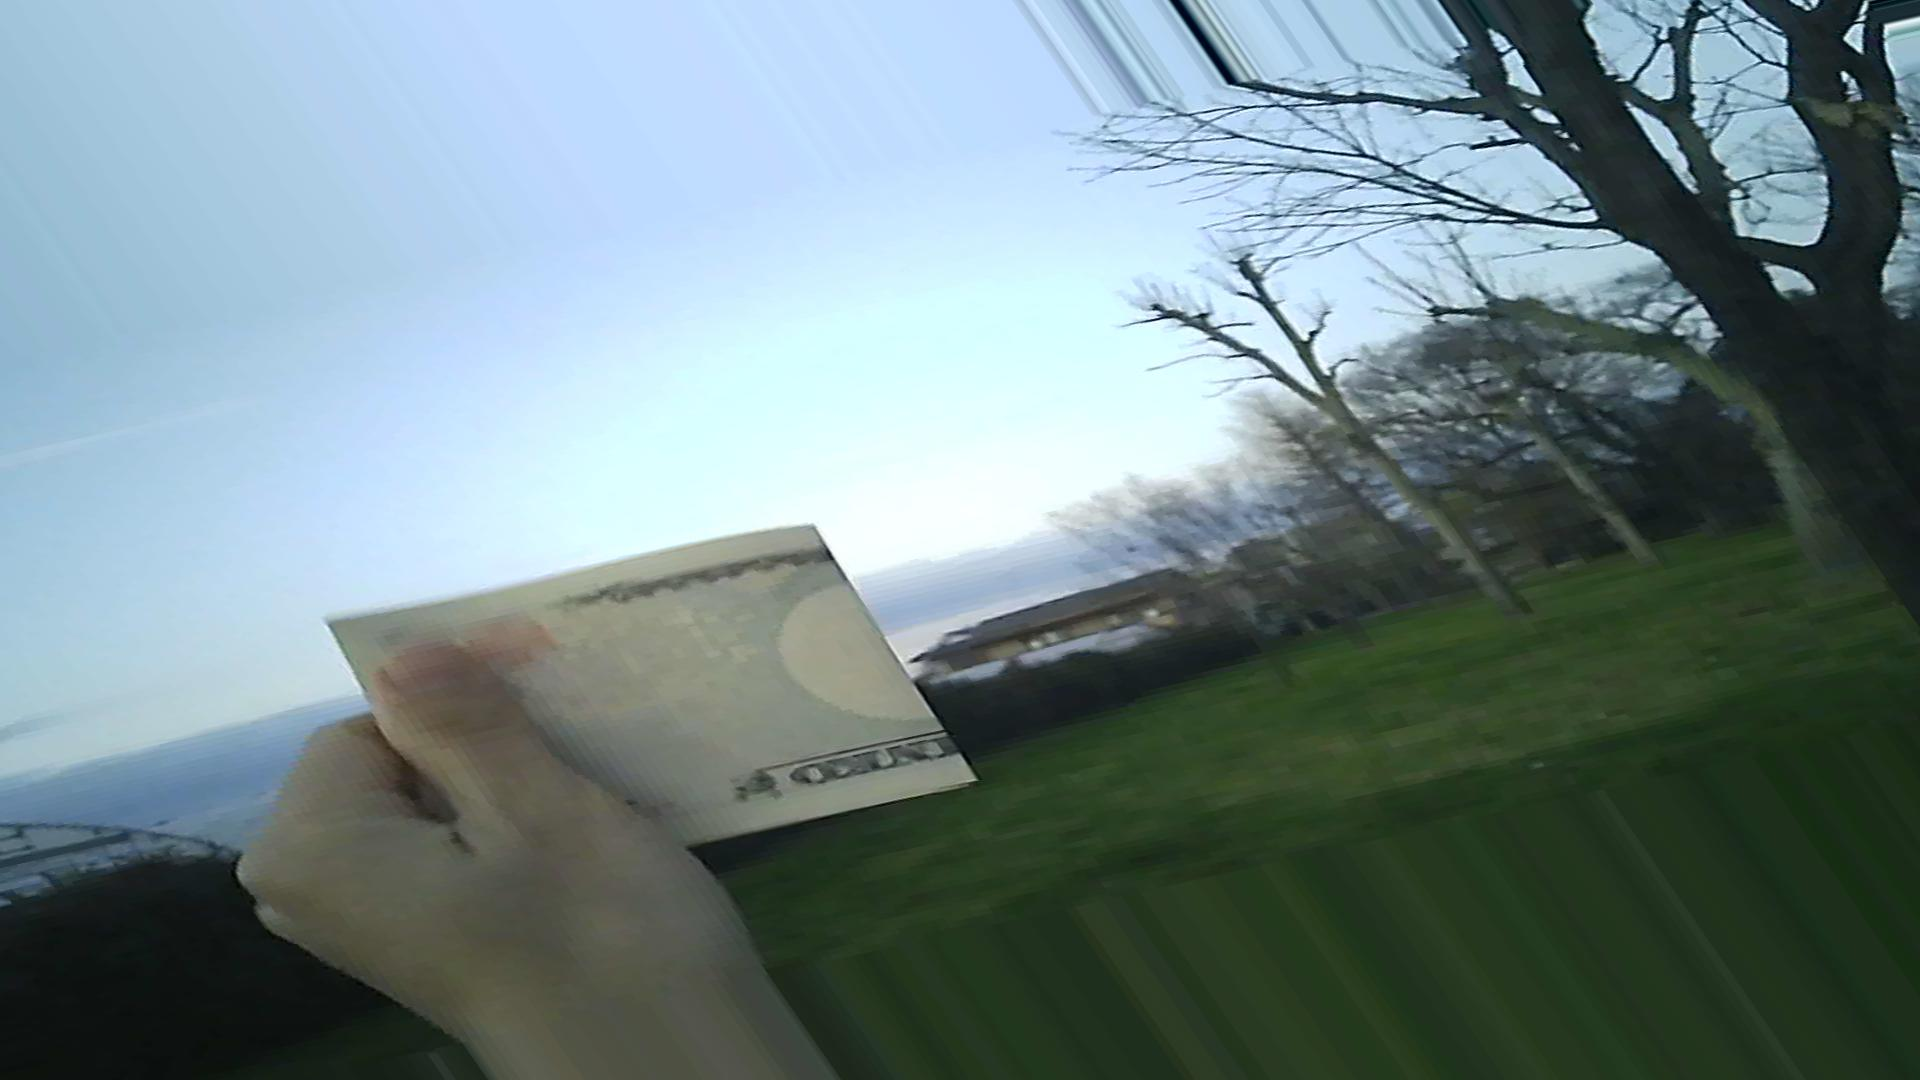10,000 Yen: (322, 510, 967, 907)
